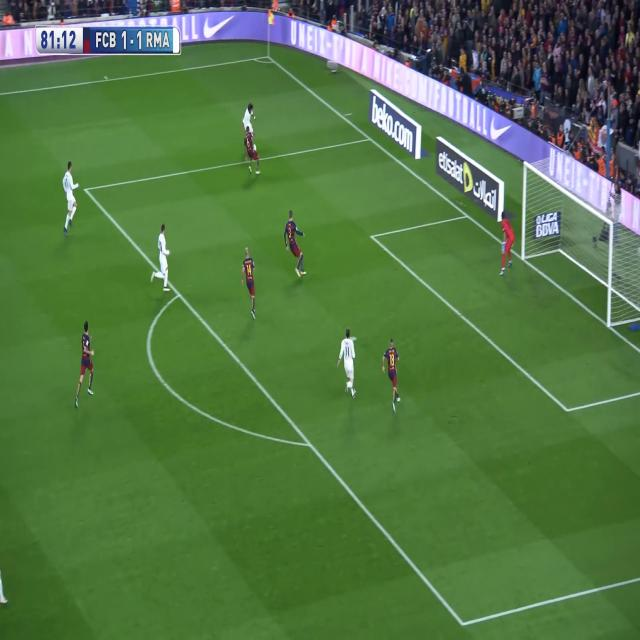ball: (252, 143, 258, 151)
team1: (75, 322, 95, 406), (283, 211, 306, 281), (383, 338, 402, 411), (242, 250, 258, 320), (242, 124, 258, 176)
team2: (60, 161, 80, 237), (337, 331, 357, 401), (498, 212, 516, 277), (154, 223, 170, 292), (242, 99, 256, 134)
